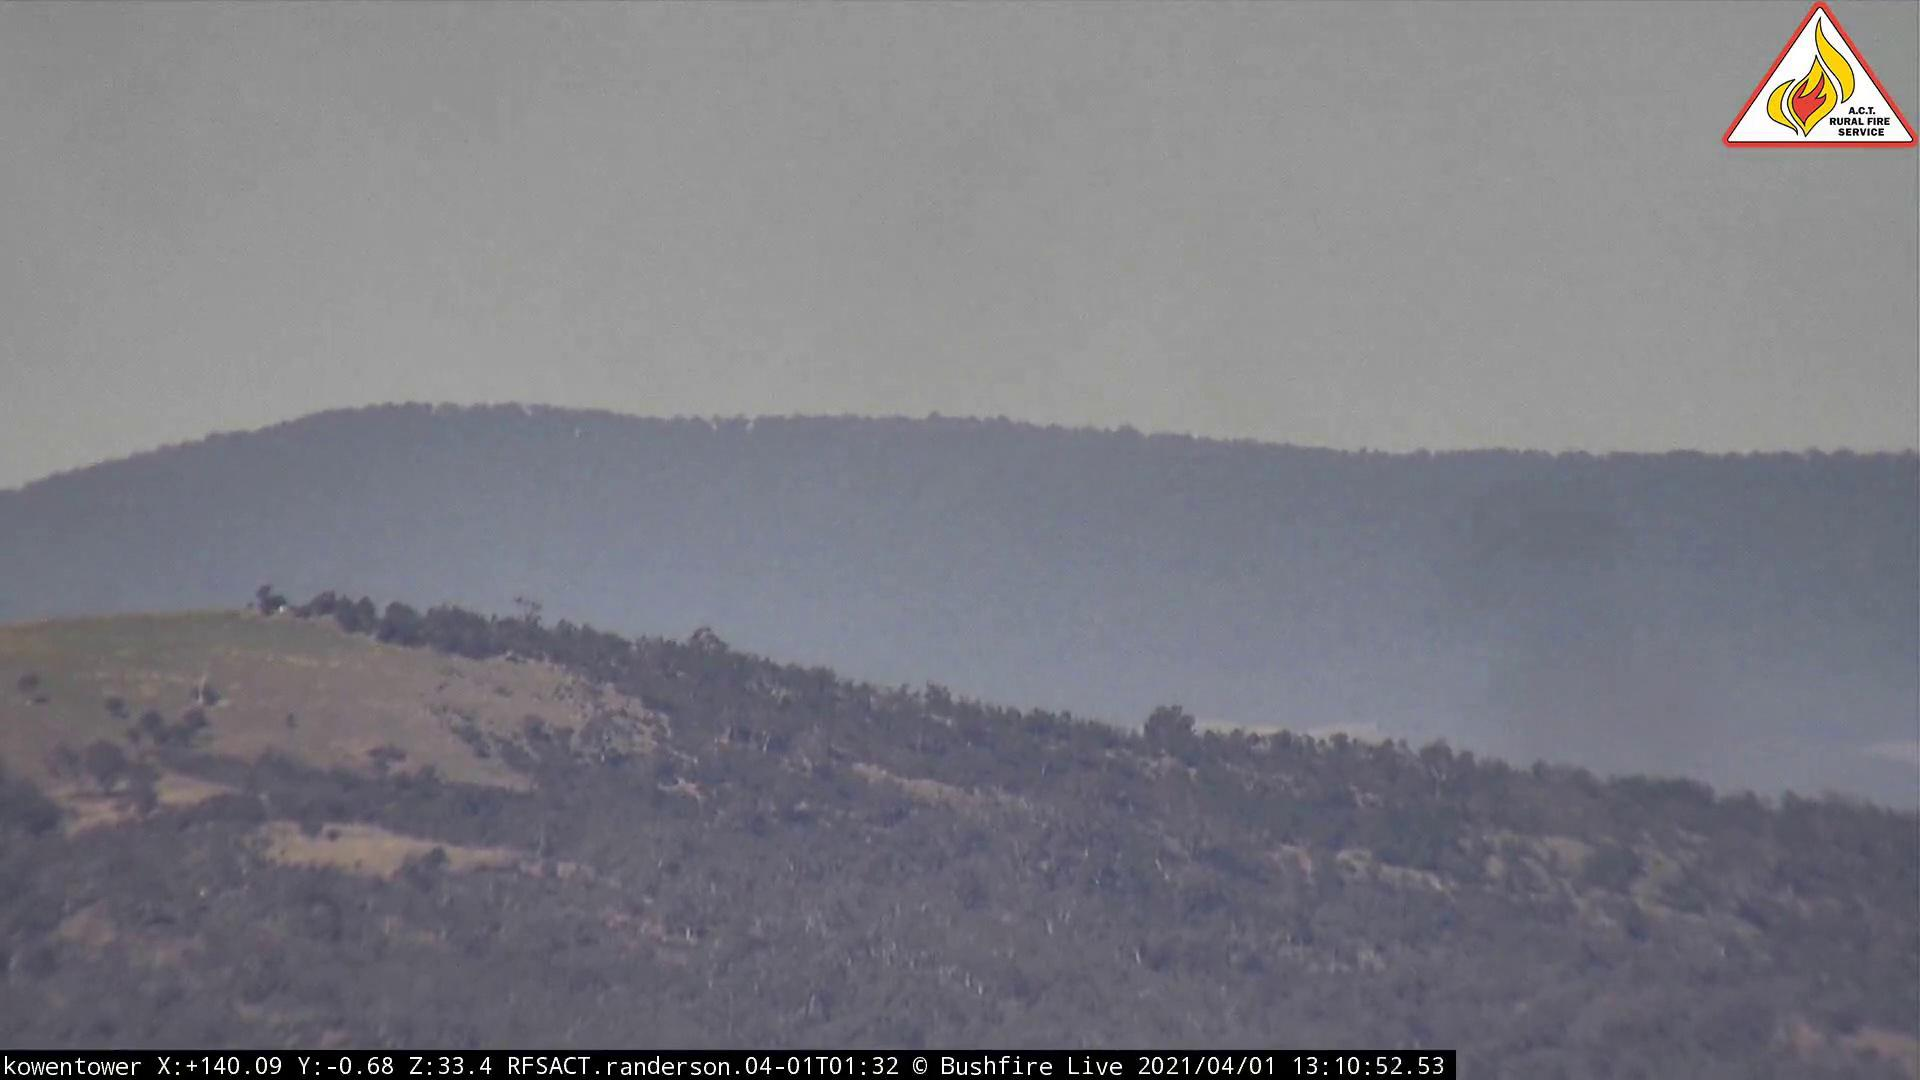Smoke: (1282, 313, 1817, 848)
